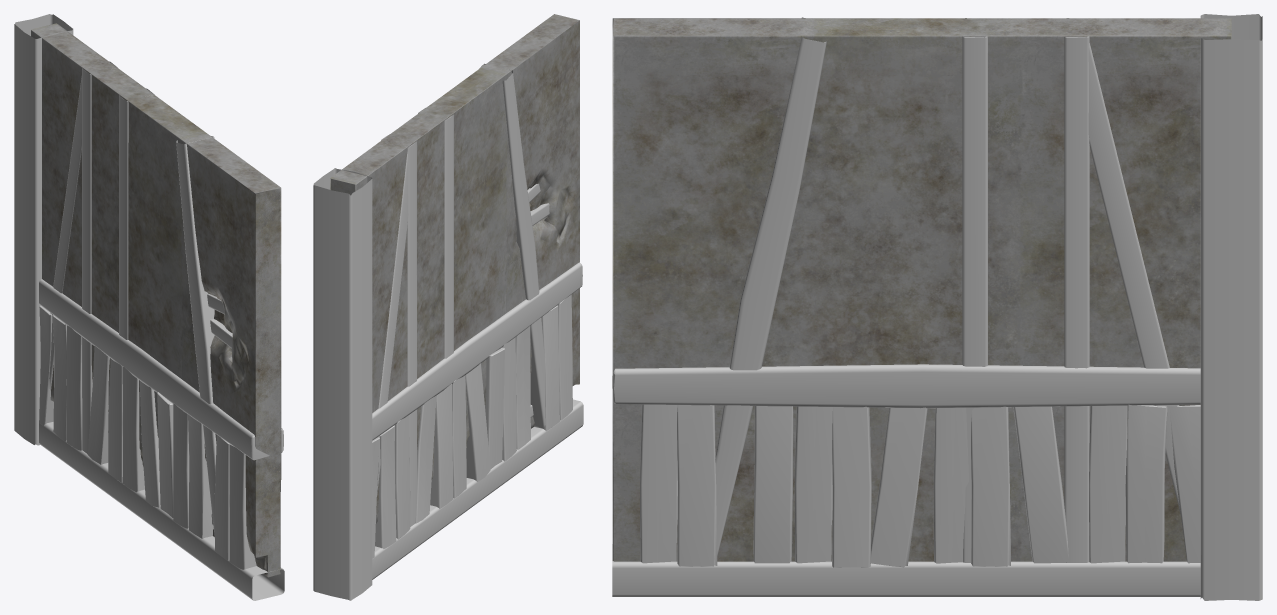
The model's file is SM_Wall28.fbx.
3 views of the same model, side by side, from view 1: azimuth 30°, elevation 25°; view 2: azimuth 150°, elevation 25°; view 3: azimuth 270°, elevation 25° (orthographic). The views are drawn at different scales.
Parts seen in each view (by area): view 1: SM_Wall28_LOD0; view 2: SM_Wall28_LOD0; view 3: SM_Wall28_LOD0.
Boxes of the visible parts, x1,y1,x2,y2 form: SM_Wall28_LOD0: (14,14,284,600); SM_Wall28_LOD0: (313,14,583,600); SM_Wall28_LOD0: (612,14,1262,600).
Size of the model in its own units: 30 by 315 by 302.
